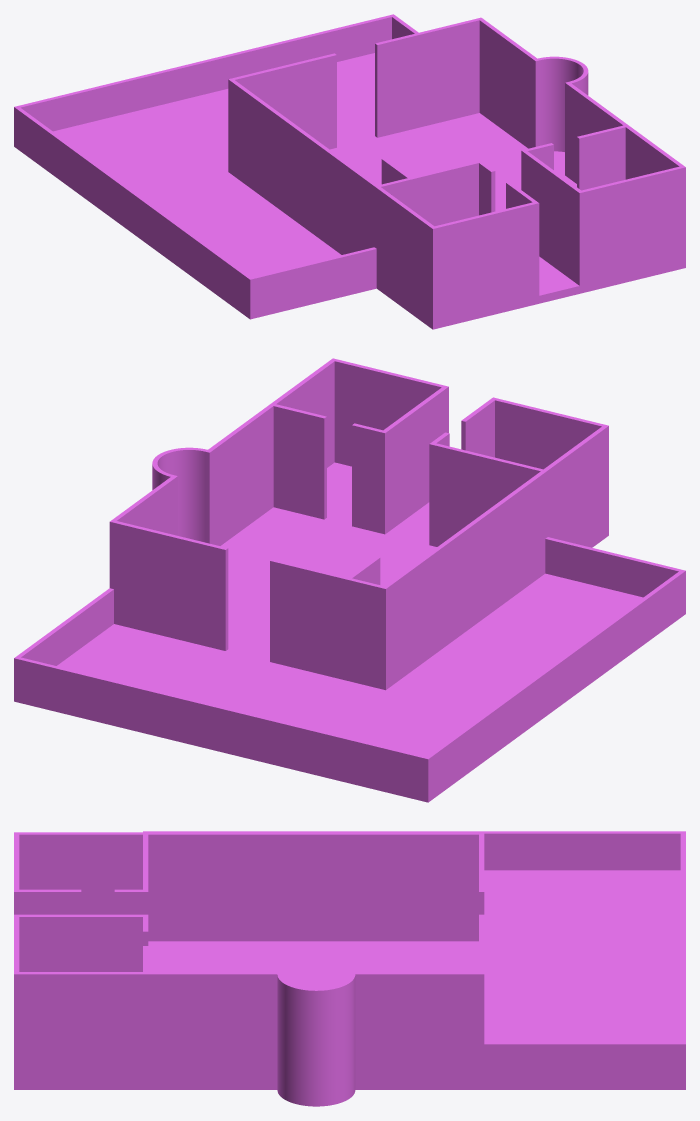
Rendered from casamaterialok.gltf.
3 views of the same model, one above another, from view 1: azimuth 30°, elevation 25°; view 2: azimuth 150°, elevation 25°; view 3: azimuth 270°, elevation 25° (orthographic). The views are drawn at different scales.
Visible parts, largest first — view 1: EXTRUSIONES; view 2: EXTRUSIONES; view 3: EXTRUSIONES.
Boxes of the visible parts, left/top/right/bottom form: EXTRUSIONES: left=14, top=14, right=685, bottom=329; EXTRUSIONES: left=14, top=358, right=685, bottom=802; EXTRUSIONES: left=14, top=831, right=685, bottom=1106.
Bounding box in the file's own units: 16.16 × 3.8 × 20.
